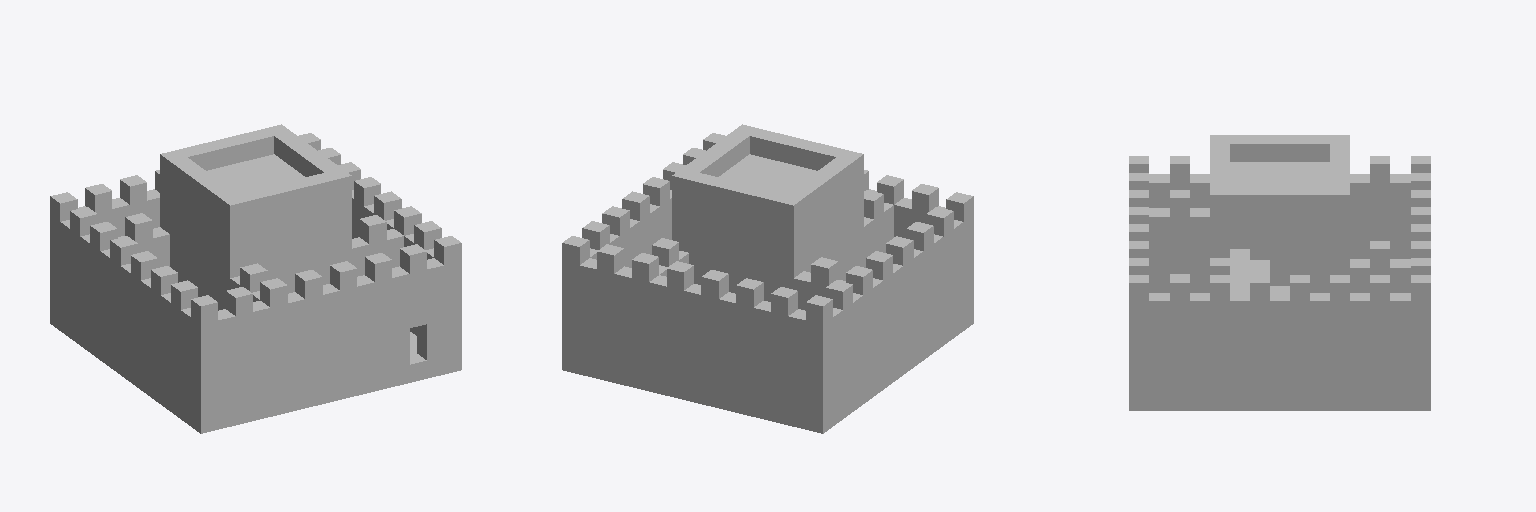
Rendered from amethyst_box_1.obj.
The picture shows the model from 3 angles: view 1: azimuth 30°, elevation 25°; view 2: azimuth 150°, elevation 25°; view 3: azimuth 270°, elevation 25°; orthographic projection.
Parts seen in each view (by area): view 1: amethyst_box_1; view 2: amethyst_box_1; view 3: amethyst_box_1.
Part boxes in pixels (x1,y1,x2,y2): amethyst_box_1: (50, 124, 461, 433); amethyst_box_1: (562, 124, 973, 433); amethyst_box_1: (1129, 135, 1430, 410).
Size of the model in its own units: 15 by 10 by 15.